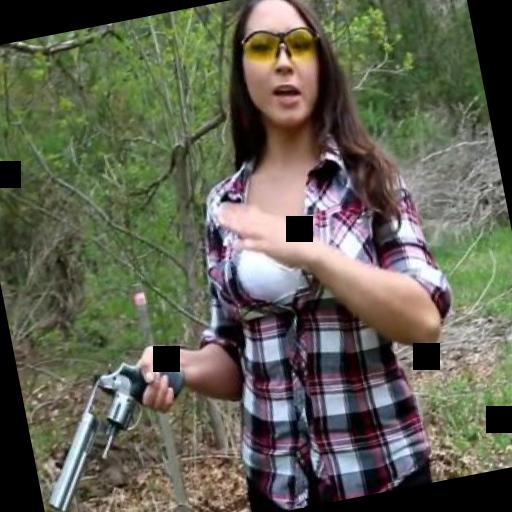Handgun: (21, 343, 204, 512)
